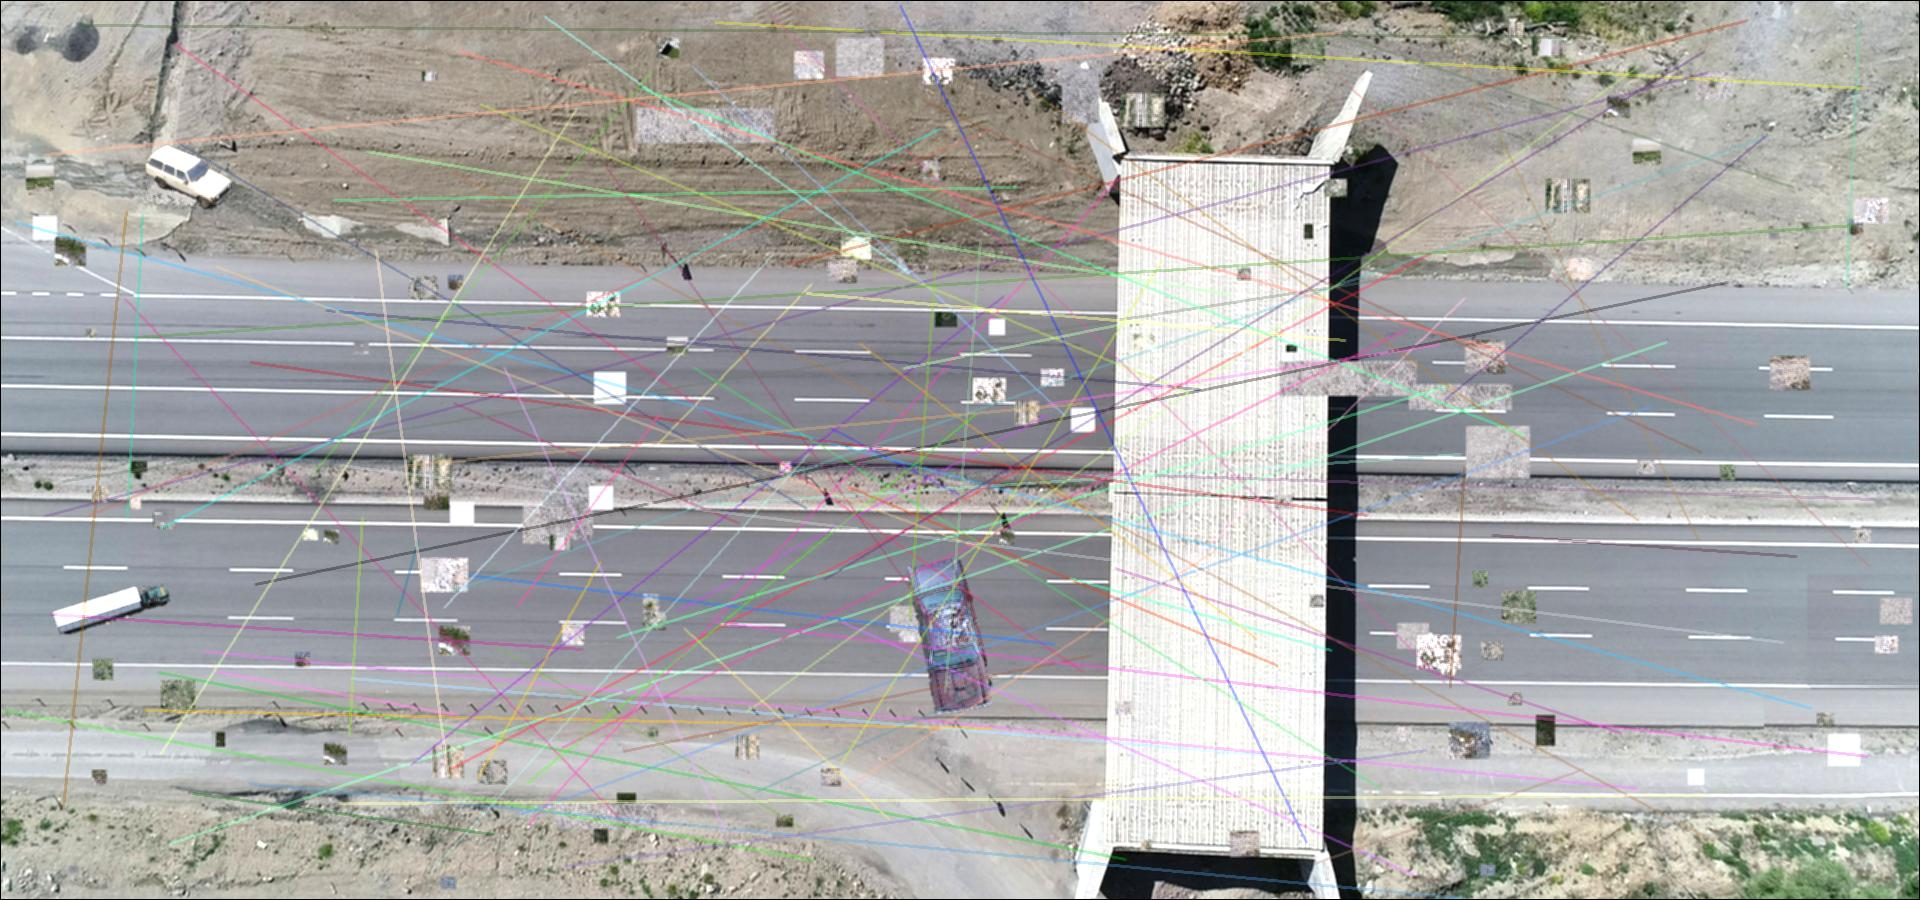arac: (904, 558, 996, 714), (50, 580, 170, 634), (143, 144, 238, 209)
